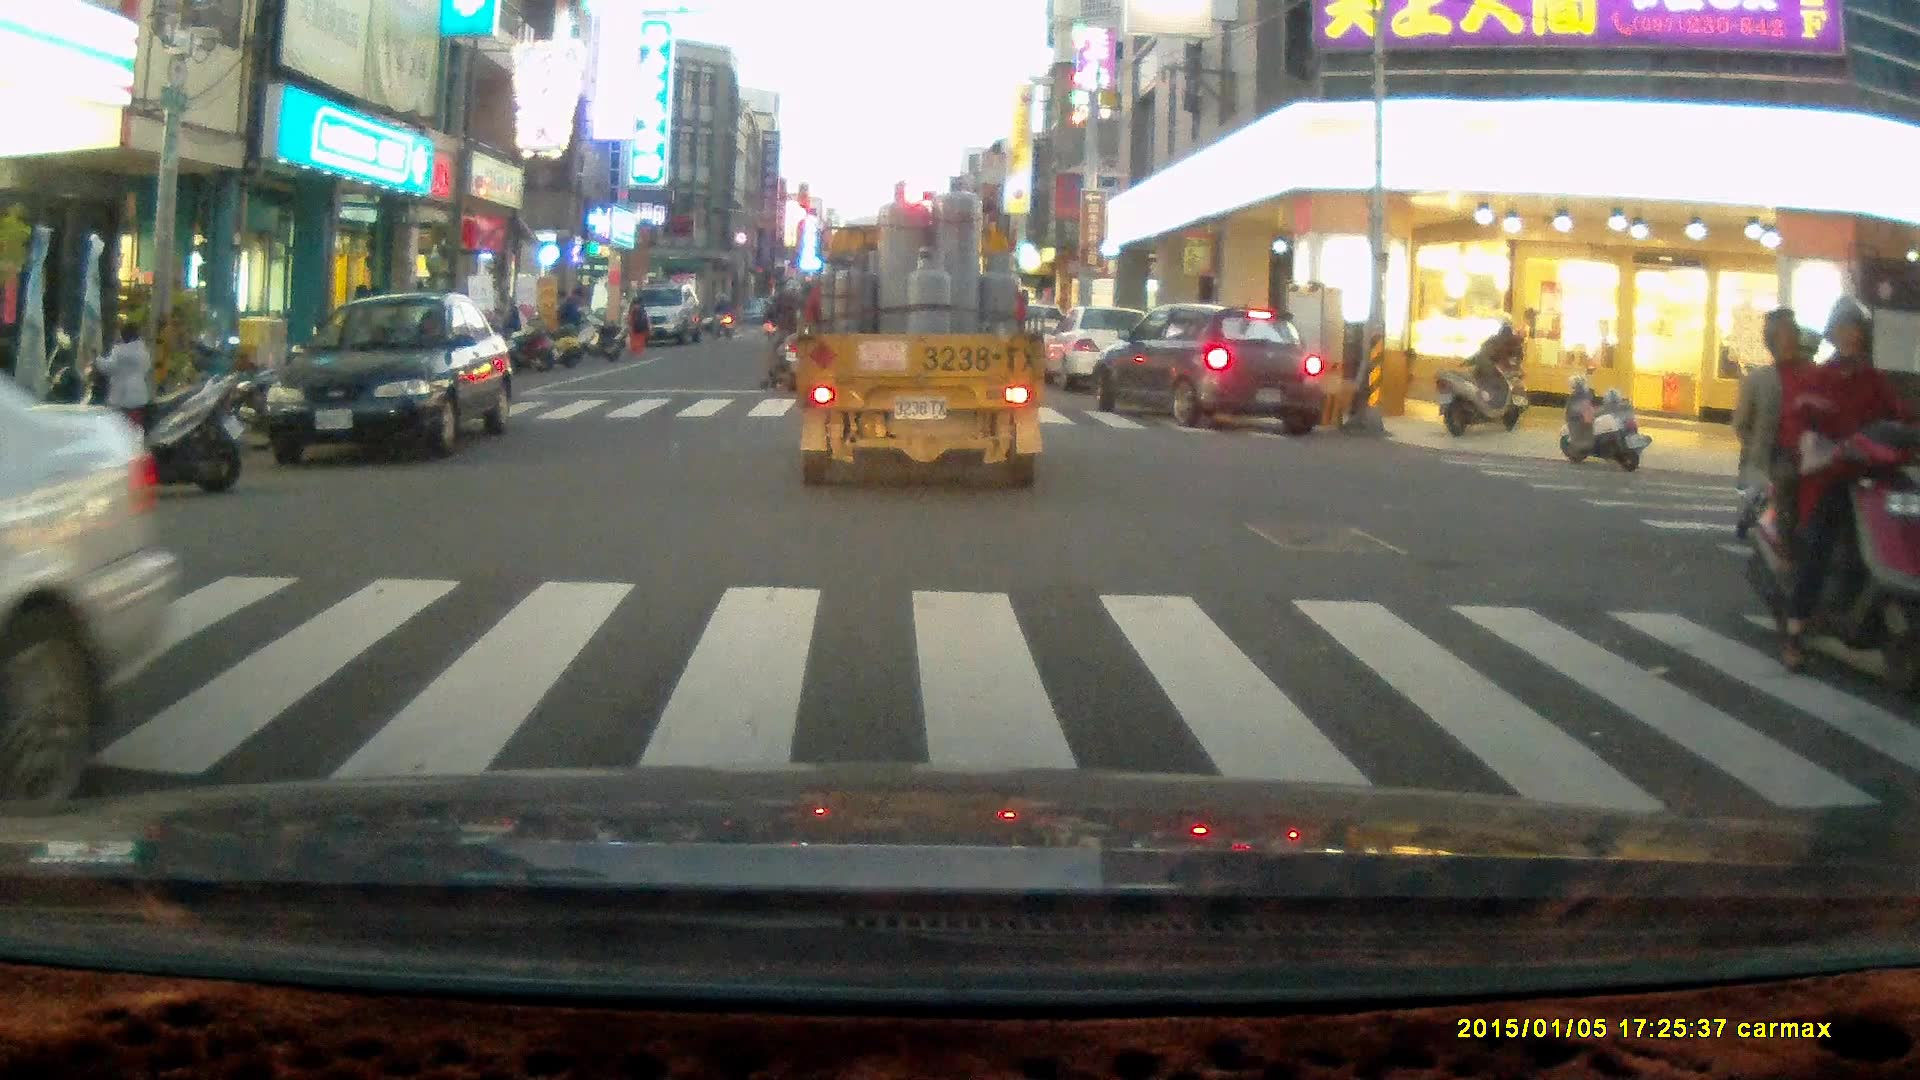pedestrian: (91, 318, 154, 465), (556, 285, 585, 353), (624, 296, 647, 356)
rider: (1737, 293, 1920, 695), (755, 264, 813, 392), (1473, 310, 1530, 430)
vehicle: (790, 173, 1052, 489), (1, 347, 175, 799), (269, 293, 514, 462), (1090, 306, 1321, 431), (1041, 307, 1171, 398), (622, 280, 698, 341)
